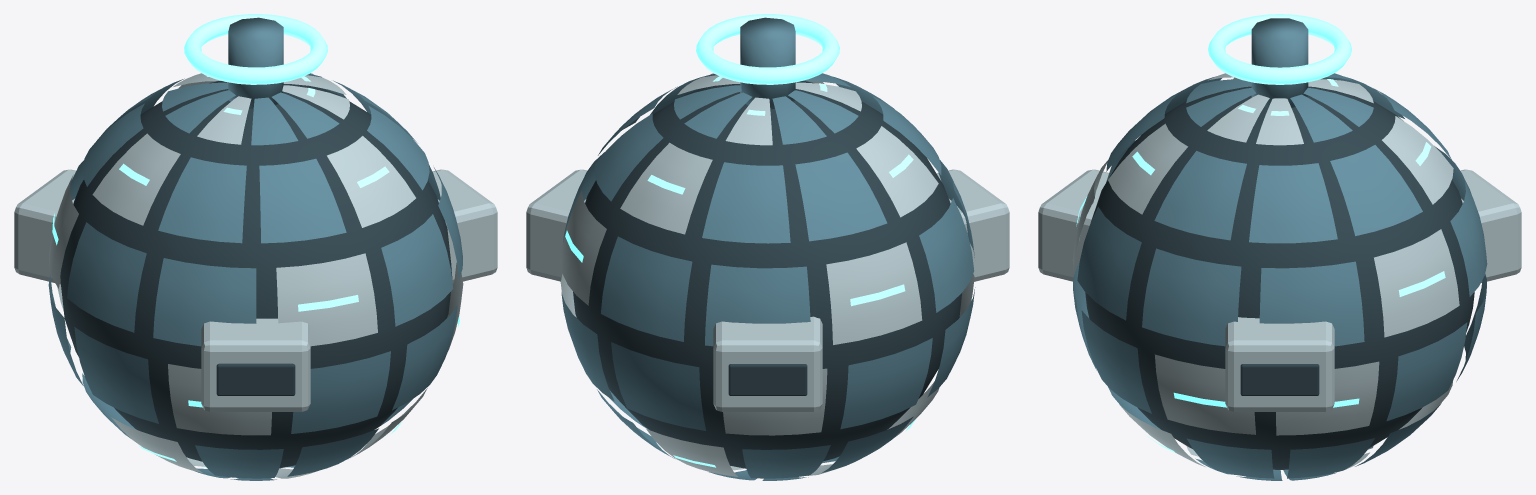
File: project-engineering.glb
3 renders of one model, left to right at view 1: azimuth 30°, elevation 25°; view 2: azimuth 150°, elevation 25°; view 3: azimuth 270°, elevation 25°, orthographic.
Visible parts, largest first — view 1: body_hull.001, body_dark.001, body_ceramic.001, body_light.001; view 2: body_hull.001, body_dark.001, body_ceramic.001, body_light.001; view 3: body_hull.001, body_dark.001, body_ceramic.001, body_light.001.
Part boxes in pixels (left/top/right/bottom): body_hull.001: left=48, top=17, right=462, bottom=480; body_dark.001: left=60, top=81, right=452, bottom=468; body_ceramic.001: left=14, top=73, right=497, bottom=478; body_light.001: left=52, top=14, right=459, bottom=467; body_hull.001: left=561, top=17, right=975, bottom=480; body_dark.001: left=573, top=81, right=961, bottom=468; body_ceramic.001: left=526, top=73, right=1009, bottom=476; body_light.001: left=565, top=14, right=916, bottom=467; body_hull.001: left=1073, top=18, right=1487, bottom=480; body_dark.001: left=1085, top=86, right=1474, bottom=469; body_ceramic.001: left=1038, top=73, right=1521, bottom=469; body_light.001: left=1076, top=14, right=1445, bottom=453.
Bounding box in the file's own units: 1.66 × 1.71 × 1.74.
